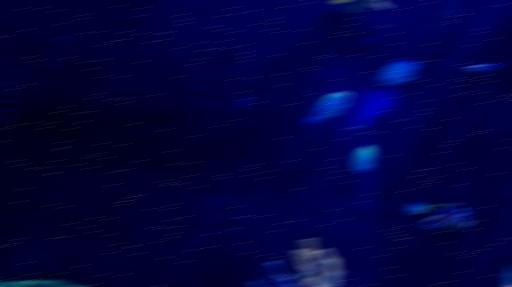Fish: (407, 203, 470, 231), (304, 93, 349, 129), (379, 60, 422, 86), (353, 145, 374, 172), (351, 0, 389, 12), (464, 64, 499, 72)
